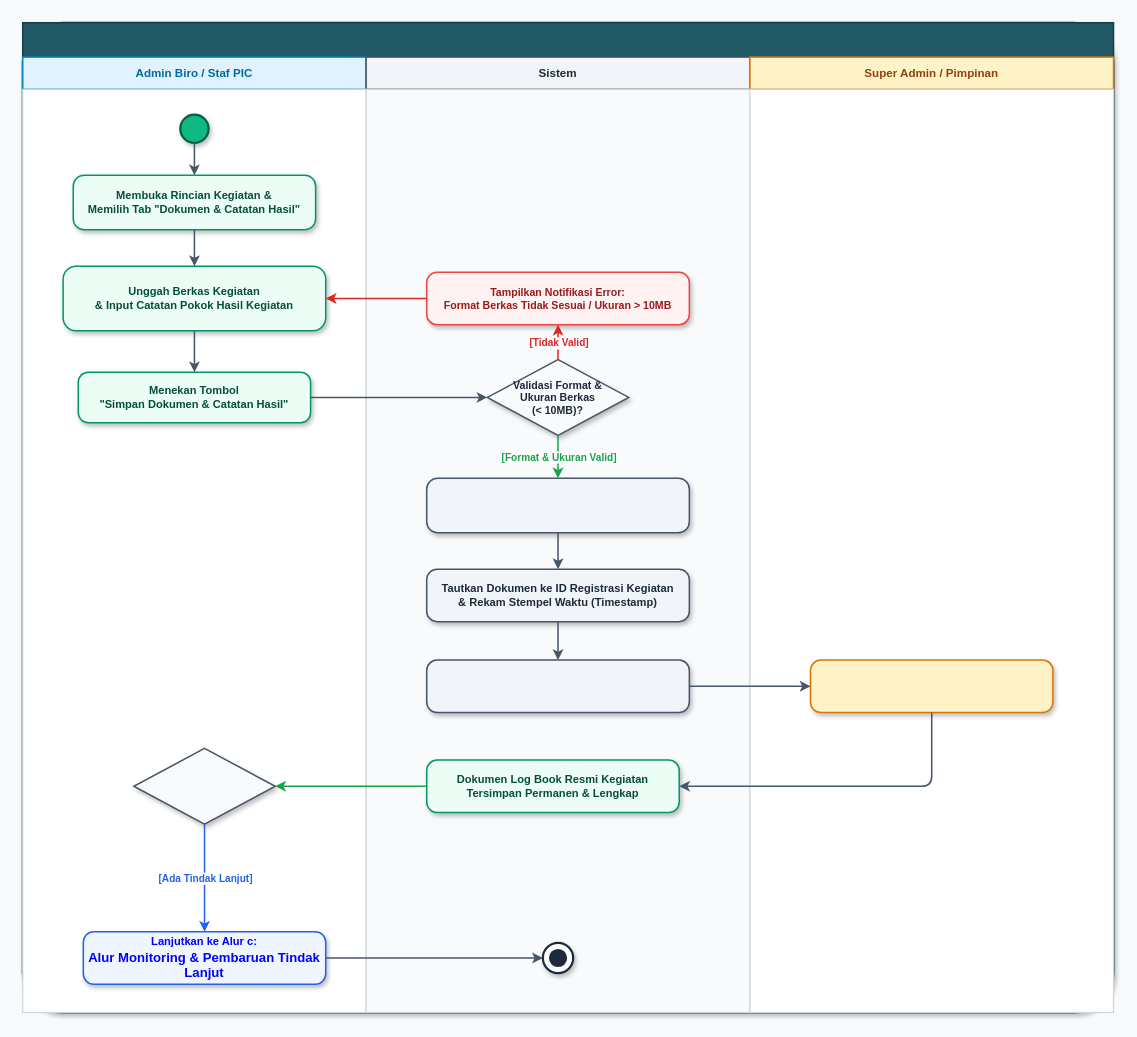
Image size: 1137x1037. Some labels were removed from this diagram. Each missing label, with the centre of its shape:
"Aktifkan Pratinjau Berkas & Sediakan Unduh Dokumen Log Book (PDF Resmi KEK)" goes at [558,687].
"Alur Pencatatan Dokumen & Catatan Hasil Kegiatan" goes at [568,39].
"Pimpinan Meninjau Kelengkapan Dokumen Log Book & Catatan Hasil Kegiatan" goes at [932,687].
"Terdapat Tindak Lanjut ?" goes at [205,787].
"Unggah Berkas ke Cloud Storage & Simpan Metadata serta Catatan Hasil ke DB" goes at [558,506].
